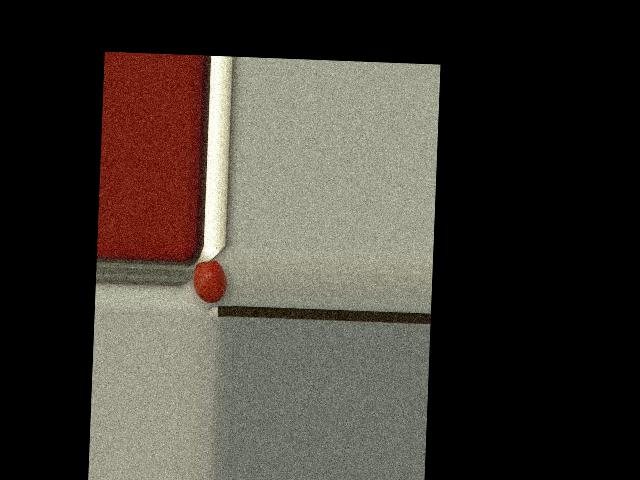tomato: (192, 259, 227, 303)
